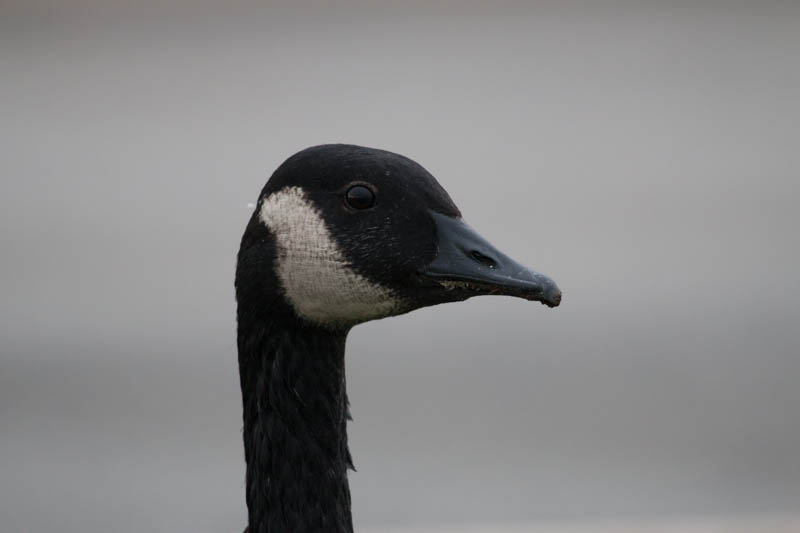goose-head: (235, 144, 562, 331)
